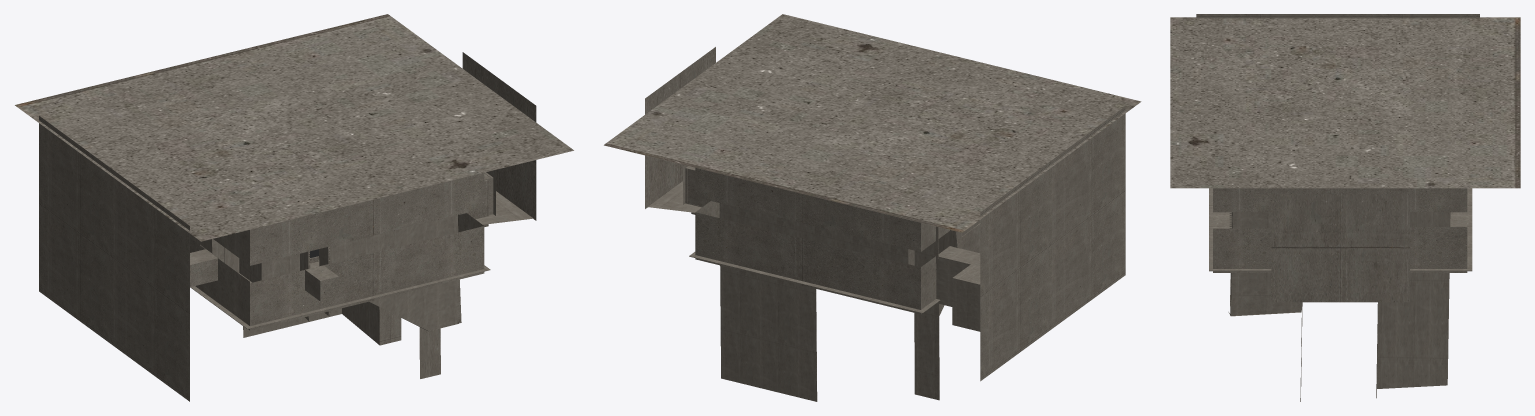
File: 3drop_gallery_v21.glb
3 views of the same model, side by side, from view 1: azimuth 30°, elevation 25°; view 2: azimuth 150°, elevation 25°; view 3: azimuth 270°, elevation 25° (orthographic). The views are drawn at different scales.
Parts seen in each view (by area): view 1: frameConcreteExternalTop, frameConcreteExternal, frameVisitableZoneSuround, ctrlPlateformConcrete_grndPhys; view 2: frameConcreteExternalTop, frameConcreteExternal, frameVisitableZoneSuround, ctrlPlateformConcrete_grndPhys, entranceLobbyConcrete; view 3: frameConcreteExternalTop, ctrlPlateformConcrete_grndPhys, frameVisitableZoneSuround, frameConcreteExternal.
Part boxes in pixels (x1=…): frameConcreteExternalTop: x1=15, y1=14, x2=573, y2=241; frameConcreteExternal: x1=39, y1=116, x2=488, y2=401; frameVisitableZoneSuround: x1=190, y1=215, x2=461, y2=378; ctrlPlateformConcrete_grndPhys: x1=190, y1=52, x2=536, y2=329; frameConcreteExternalTop: x1=604, y1=14, x2=1141, y2=232; frameConcreteExternal: x1=691, y1=106, x2=1125, y2=381; frameVisitableZoneSuround: x1=719, y1=203, x2=980, y2=401; ctrlPlateformConcrete_grndPhys: x1=645, y1=47, x2=940, y2=313; entranceLobbyConcrete: x1=683, y1=165, x2=710, y2=207; frameConcreteExternalTop: x1=1170, y1=17, x2=1520, y2=188; ctrlPlateformConcrete_grndPhys: x1=1209, y1=188, x2=1472, y2=302; frameVisitableZoneSuround: x1=1228, y1=188, x2=1450, y2=401; frameConcreteExternal: x1=1196, y1=14, x2=1479, y2=272.
Bounding box in the file's own units: 133 × 85.94 × 110.
Materials: 2 (2 with a texture image).
